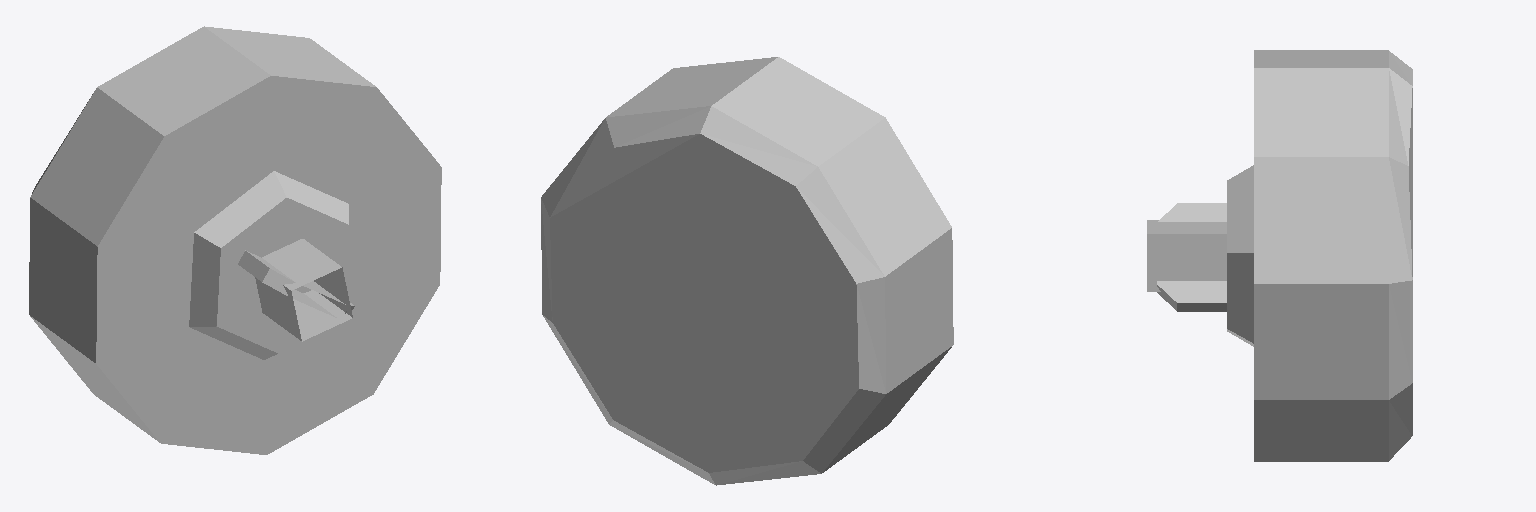
The model's file is wheel221.obj.
The picture shows the model from 3 angles: view 1: azimuth 30°, elevation 25°; view 2: azimuth 150°, elevation 25°; view 3: azimuth 270°, elevation 25°; orthographic projection.
Visible parts, largest first — view 1: wheel_low_textures; view 2: wheel_low_textures; view 3: wheel_low_textures.
Boxes of the visible parts, x1,y1,x2,y2 form: wheel_low_textures: [29, 26, 441, 454]; wheel_low_textures: [541, 57, 953, 485]; wheel_low_textures: [1147, 50, 1412, 461].
Size of the model in its own units: 1.49 by 1.56 by 0.9907.